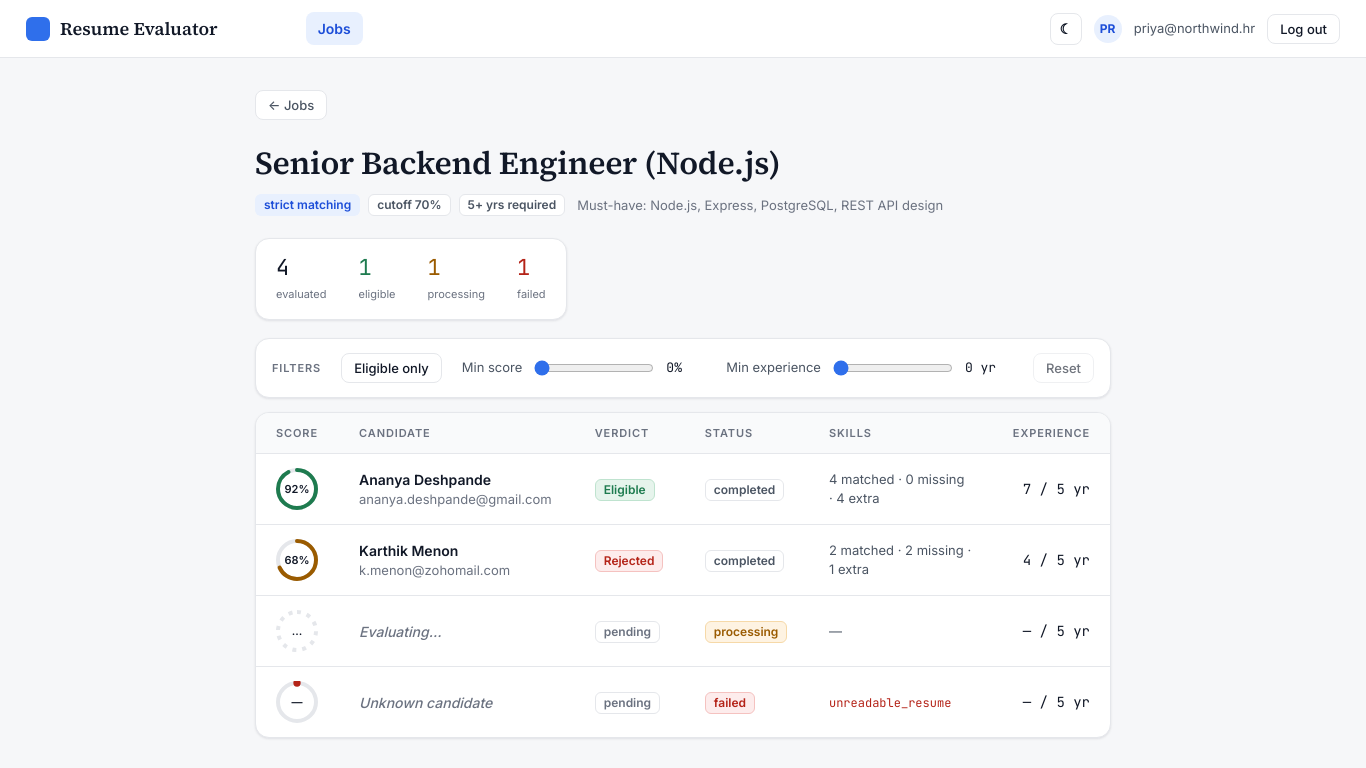
Scenario: Phase 6 - Job Candidates: filters › no matches: says so and offers a reset
This screenshot has width=1366, height=768.
Set the slider labelled "Min score 0%" to "100" at [646, 368], box [534, 360, 654, 376]
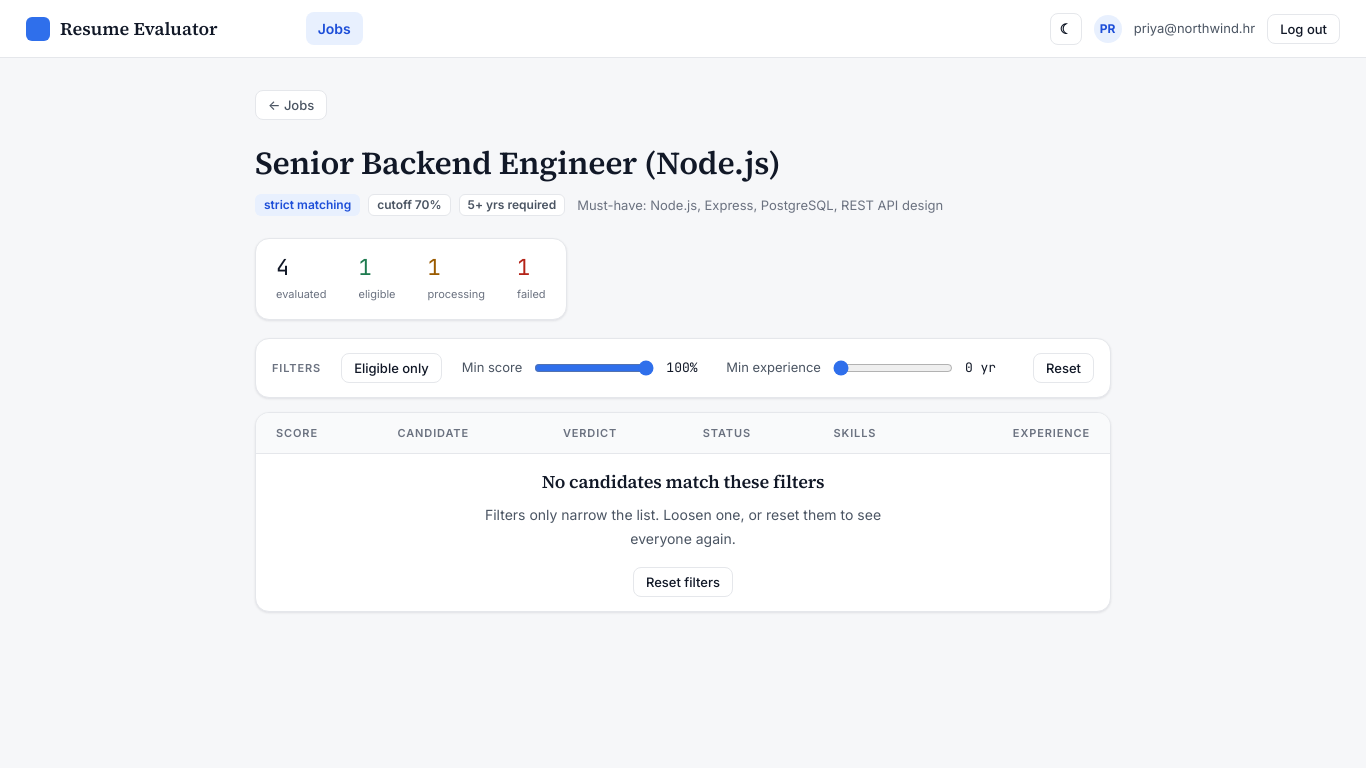
Expected: the heading "No candidates match these filters" is shown, [542, 469, 824, 494]
Click the button "Reset filters" at [683, 582], box [633, 567, 733, 597]
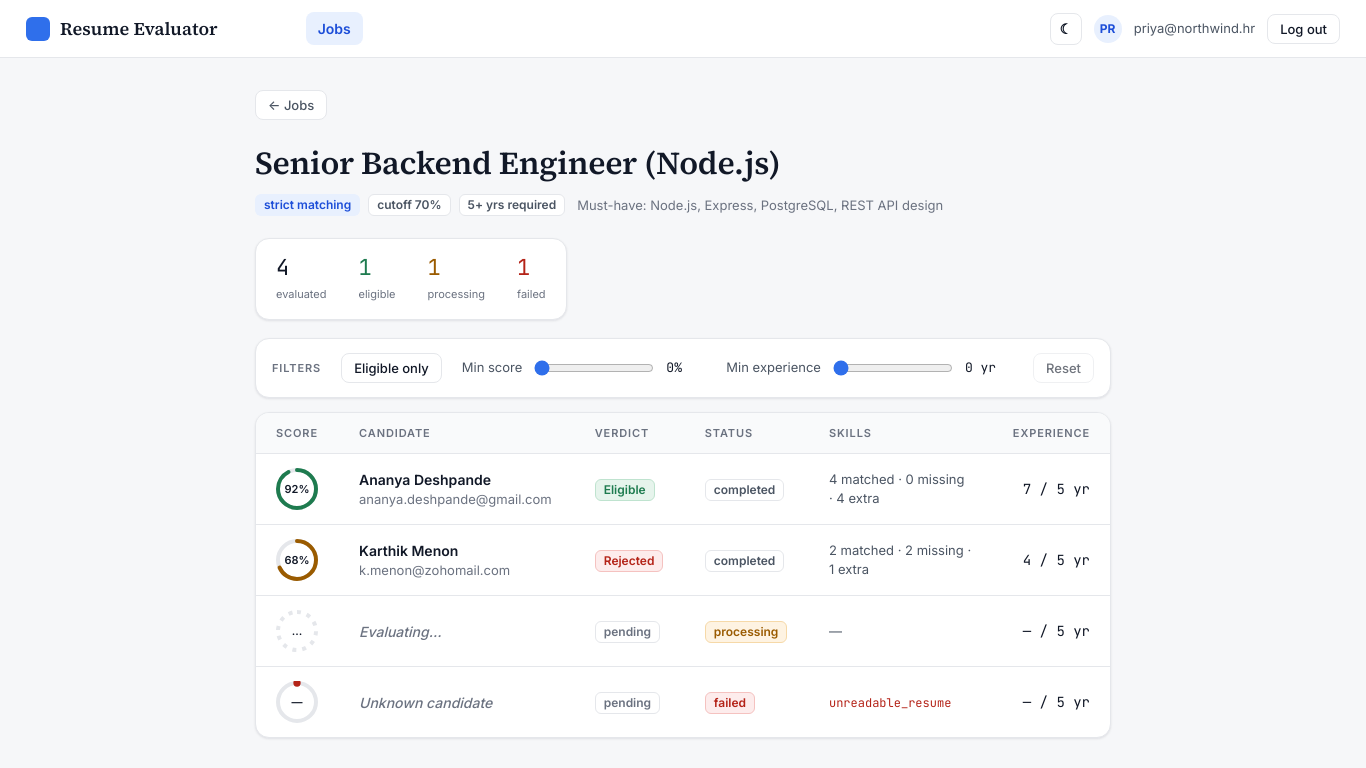
Expected: the text "Karthik Menon" is shown, [359, 542, 458, 559]
